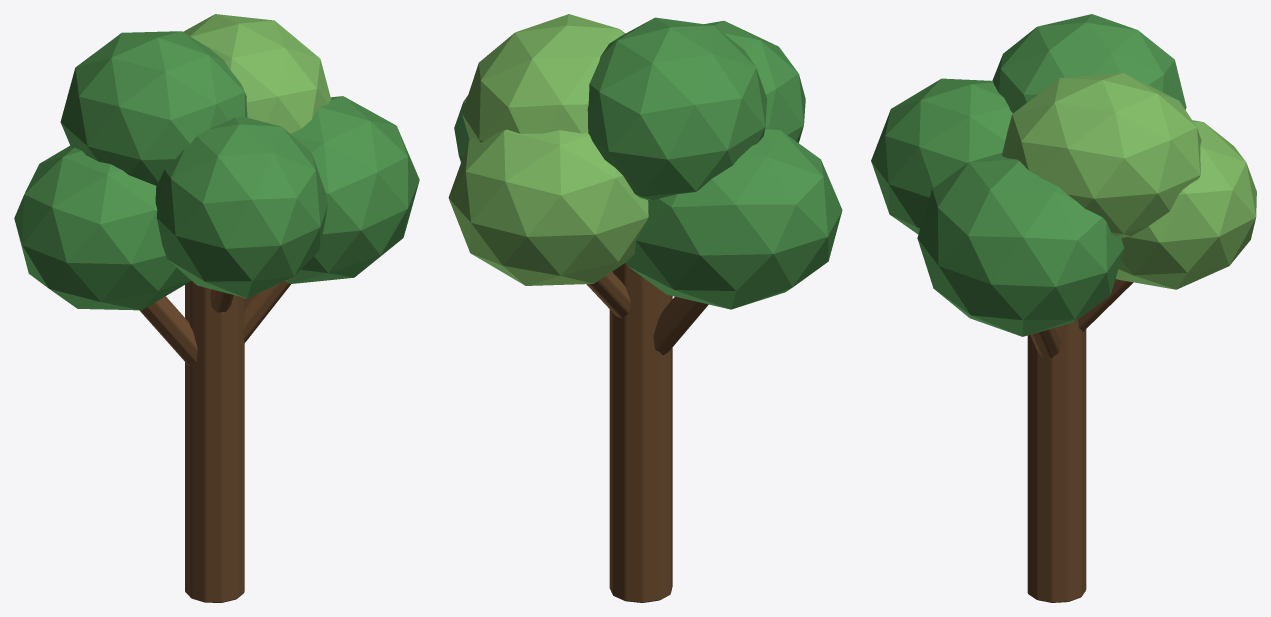
The model's file is broadleaf_mature_7p3m.glb.
The picture shows the model from 3 angles, left to right: view 1: azimuth 30°, elevation 25°; view 2: azimuth 150°, elevation 25°; view 3: azimuth 270°, elevation 25°; orthographic projection. The views are drawn at different scales.
Parts seen in each view (by area): view 1: broadleaf_mature_canopy_04, broadleaf_mature_canopy_01, broadleaf_mature_canopy_06, broadleaf_mature_trunk, broadleaf_mature_canopy_02, broadleaf_mature_canopy_05, broadleaf_mature_branch_01, broadleaf_mature_branch_02; view 2: broadleaf_mature_canopy_01, broadleaf_mature_canopy_06, broadleaf_mature_canopy_03, broadleaf_mature_trunk, broadleaf_mature_canopy_05, broadleaf_mature_canopy_04, broadleaf_mature_branch_01, broadleaf_mature_branch_03; view 3: broadleaf_mature_canopy_02, broadleaf_mature_canopy_05, broadleaf_mature_trunk, broadleaf_mature_canopy_04, broadleaf_mature_canopy_03, broadleaf_mature_canopy_06, broadleaf_mature_branch_03, broadleaf_mature_branch_02.
Part boxes in pixels (x1=…): broadleaf_mature_canopy_04: x1=155, y1=116, x2=327, y2=298; broadleaf_mature_canopy_01: x1=14, y1=146, x2=191, y2=310; broadleaf_mature_canopy_06: x1=60, y1=31, x2=247, y2=185; broadleaf_mature_trunk: x1=185, y1=281, x2=244, y2=602; broadleaf_mature_canopy_02: x1=285, y1=96, x2=419, y2=283; broadleaf_mature_canopy_05: x1=183, y1=14, x2=331, y2=133; broadleaf_mature_branch_01: x1=139, y1=296, x2=197, y2=366; broadleaf_mature_branch_02: x1=243, y1=281, x2=290, y2=342; broadleaf_mature_canopy_01: x1=626, y1=127, x2=842, y2=309; broadleaf_mature_canopy_06: x1=587, y1=17, x2=766, y2=200; broadleaf_mature_canopy_03: x1=448, y1=129, x2=648, y2=285; broadleaf_mature_trunk: x1=609, y1=263, x2=672, y2=602; broadleaf_mature_canopy_05: x1=462, y1=14, x2=625, y2=142; broadleaf_mature_canopy_04: x1=704, y1=20, x2=805, y2=142; broadleaf_mature_branch_01: x1=653, y1=296, x2=708, y2=354; broadleaf_mature_branch_03: x1=586, y1=272, x2=630, y2=318; broadleaf_mature_canopy_02: x1=917, y1=153, x2=1124, y2=336; broadleaf_mature_canopy_05: x1=1002, y1=72, x2=1201, y2=238; broadleaf_mature_trunk: x1=1027, y1=320, x2=1086, y2=602; broadleaf_mature_canopy_04: x1=871, y1=78, x2=1012, y2=234; broadleaf_mature_canopy_03: x1=1116, y1=120, x2=1256, y2=289; broadleaf_mature_canopy_06: x1=992, y1=14, x2=1186, y2=113; broadleaf_mature_branch_03: x1=1077, y1=278, x2=1133, y2=331; broadleaf_mature_branch_02: x1=1030, y1=327, x2=1060, y2=358.
Bounding box in the file's own units: 4.97 × 7.25 × 4.63.
